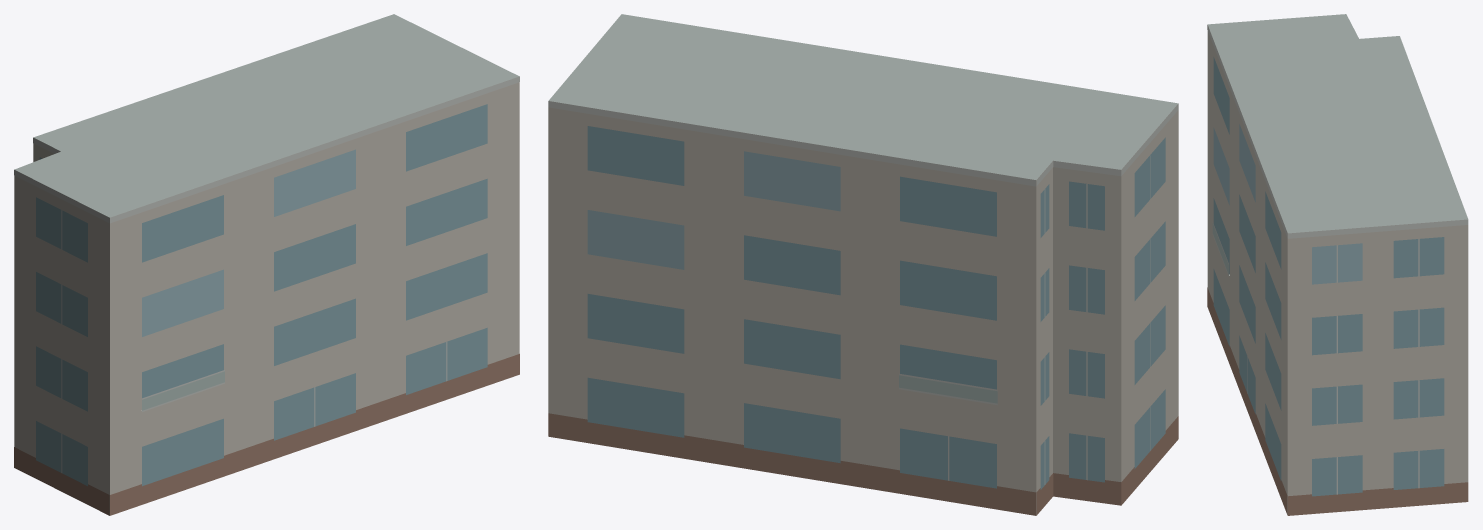
File: survey-upis-32738235.glb
3 views of the same model, side by side, from view 1: azimuth 30°, elevation 25°; view 2: azimuth 150°, elevation 25°; view 3: azimuth 270°, elevation 25° (orthographic). The views are drawn at different scales.
Parts seen in each view (by area): view 1: survey-upis-32738235.tmp; view 2: survey-upis-32738235.tmp; view 3: survey-upis-32738235.tmp.
Part boxes in pixels (bbox=[...]): survey-upis-32738235.tmp: bbox=[14, 14, 519, 515]; survey-upis-32738235.tmp: bbox=[548, 14, 1178, 515]; survey-upis-32738235.tmp: bbox=[1207, 14, 1468, 515].
Bounding box in the file's own units: 21.17 × 12.7 × 10.64.
